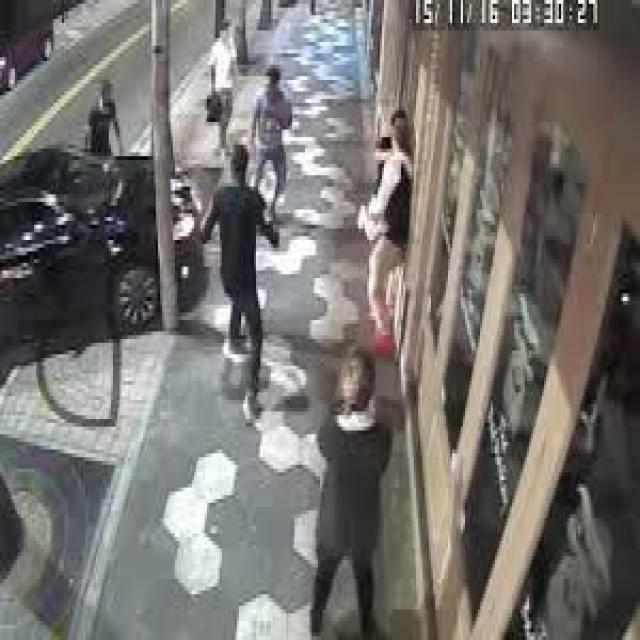fight: (208, 46, 302, 388)
